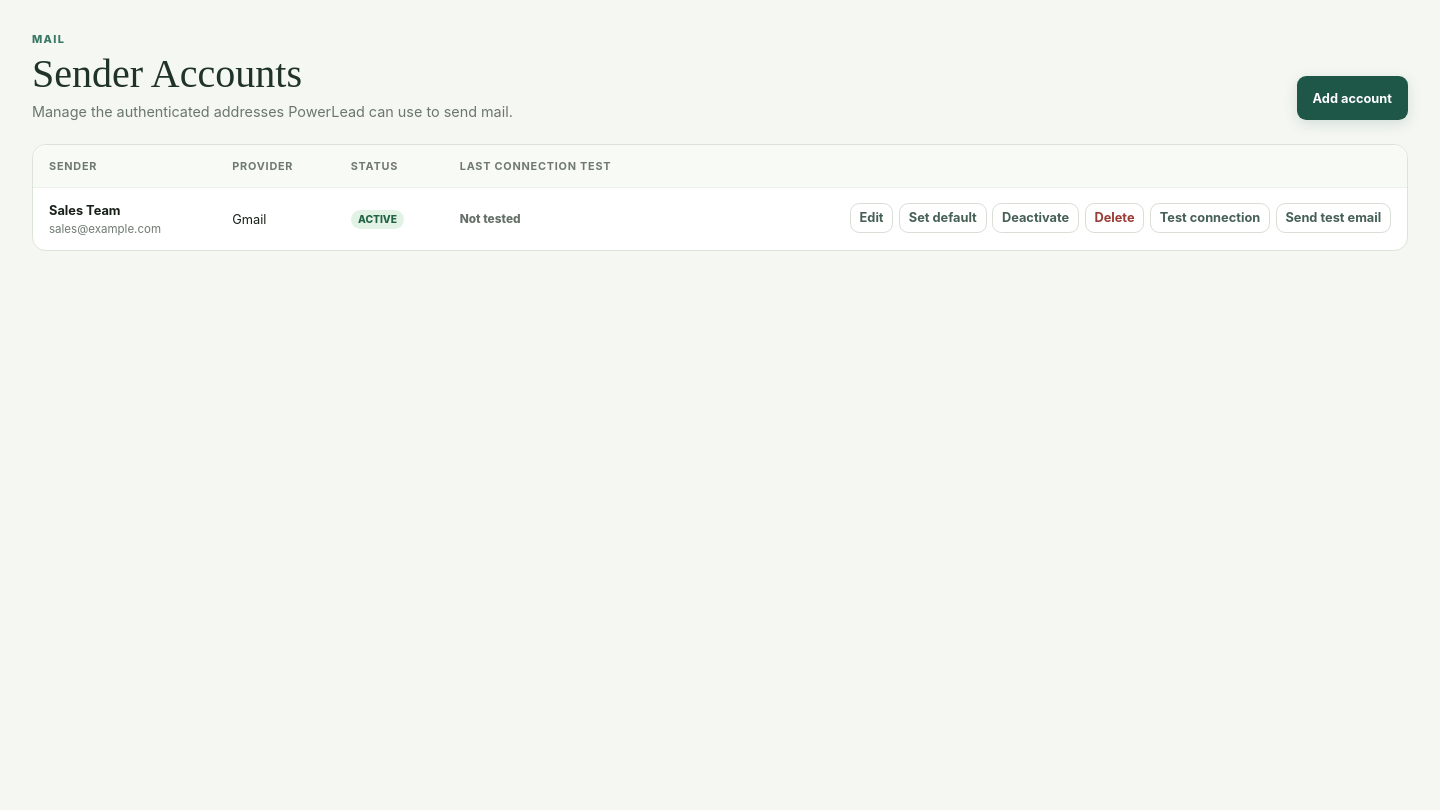
Test: SenderAccountsComponent › requires recipient validation and explicit confirmation before sending a test email
Step 1. Click the button "Send test email" → (1333, 218), box [1276,203,1391,233]
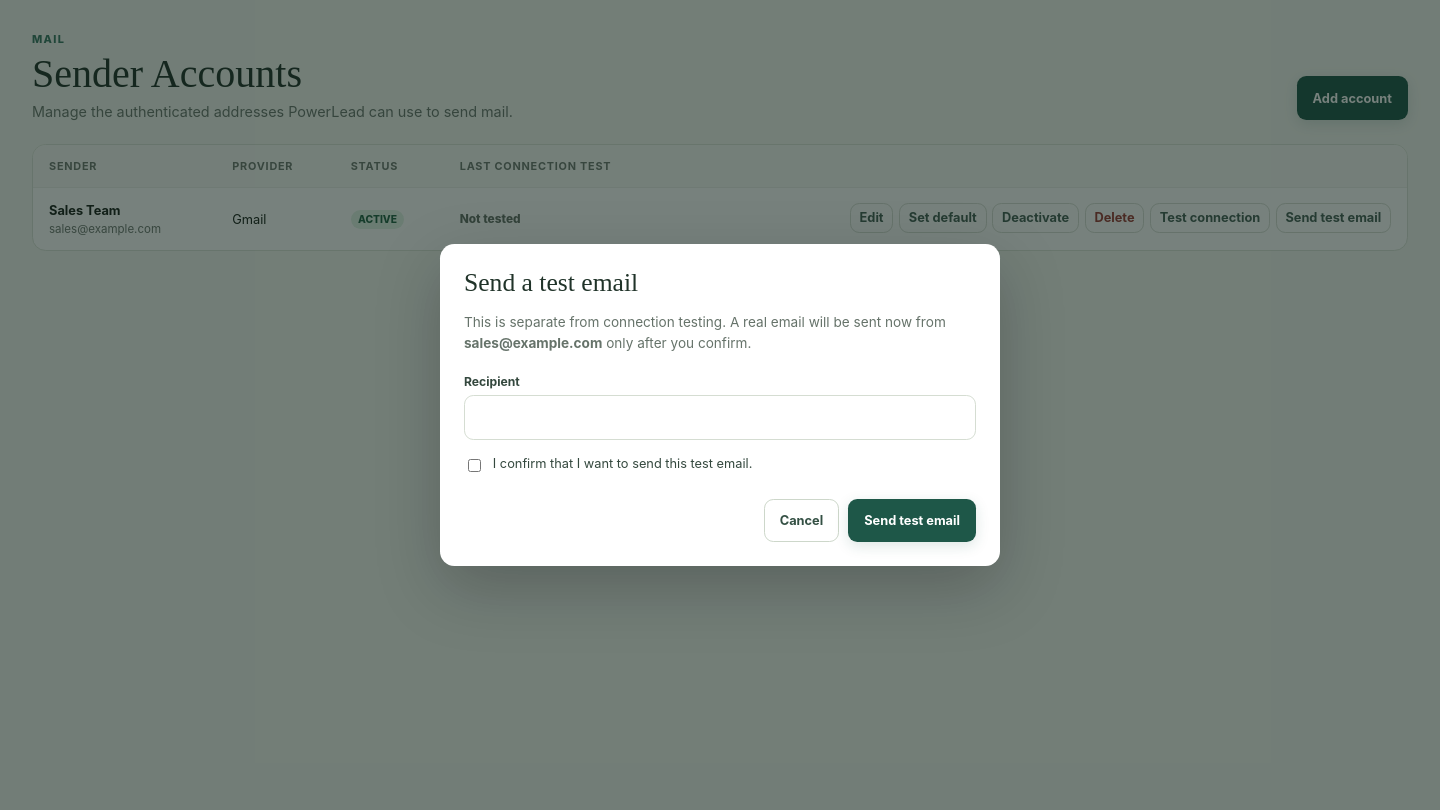
Step 2. Type "recipient@example.com" into the field with id "test-recipient" → (720, 418), box [464,395,976,440]
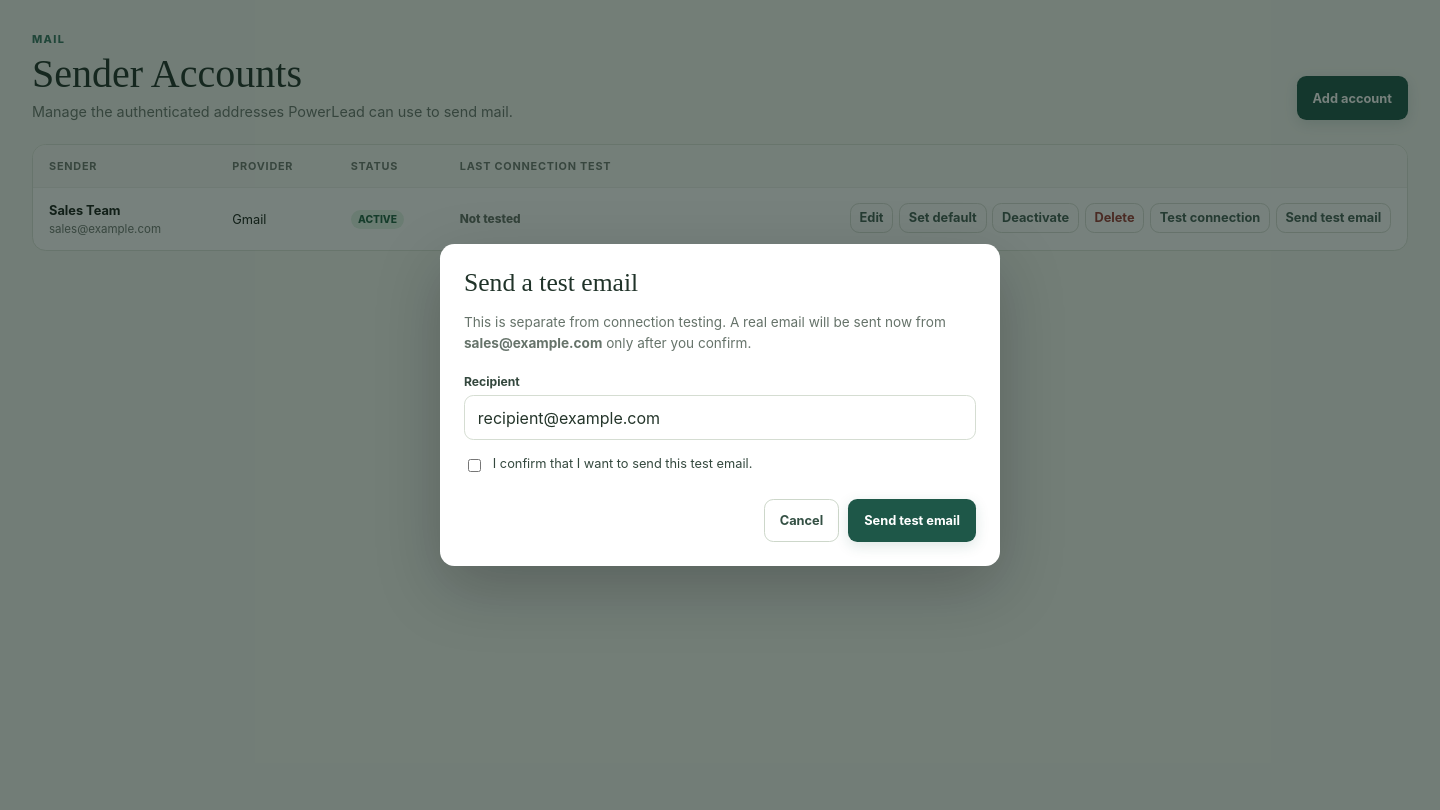
Step 3. Submit the form, box [464,374,976,542]
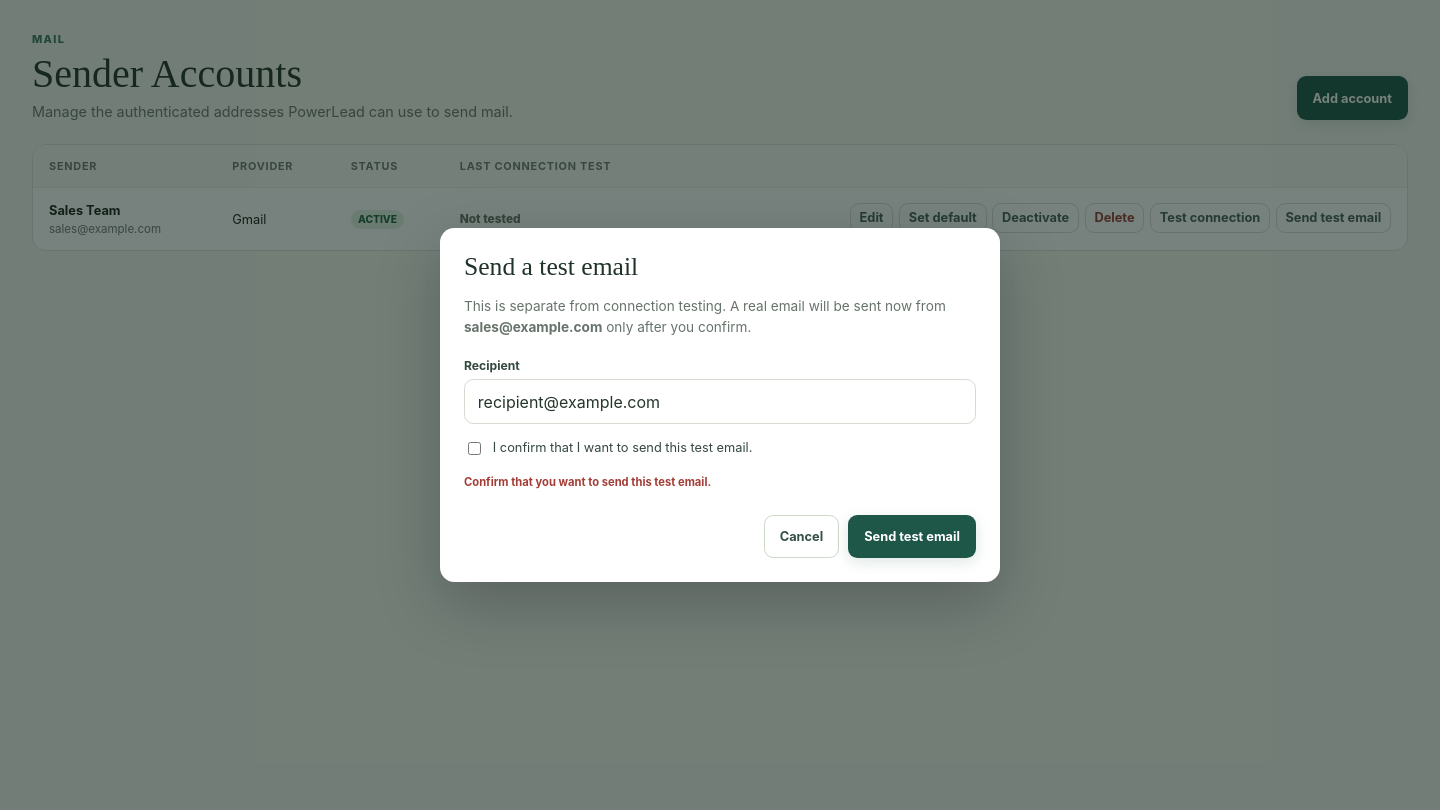
Step 4. Click the checkbox named "confirmed" → (474, 449), box [468,442,481,455]
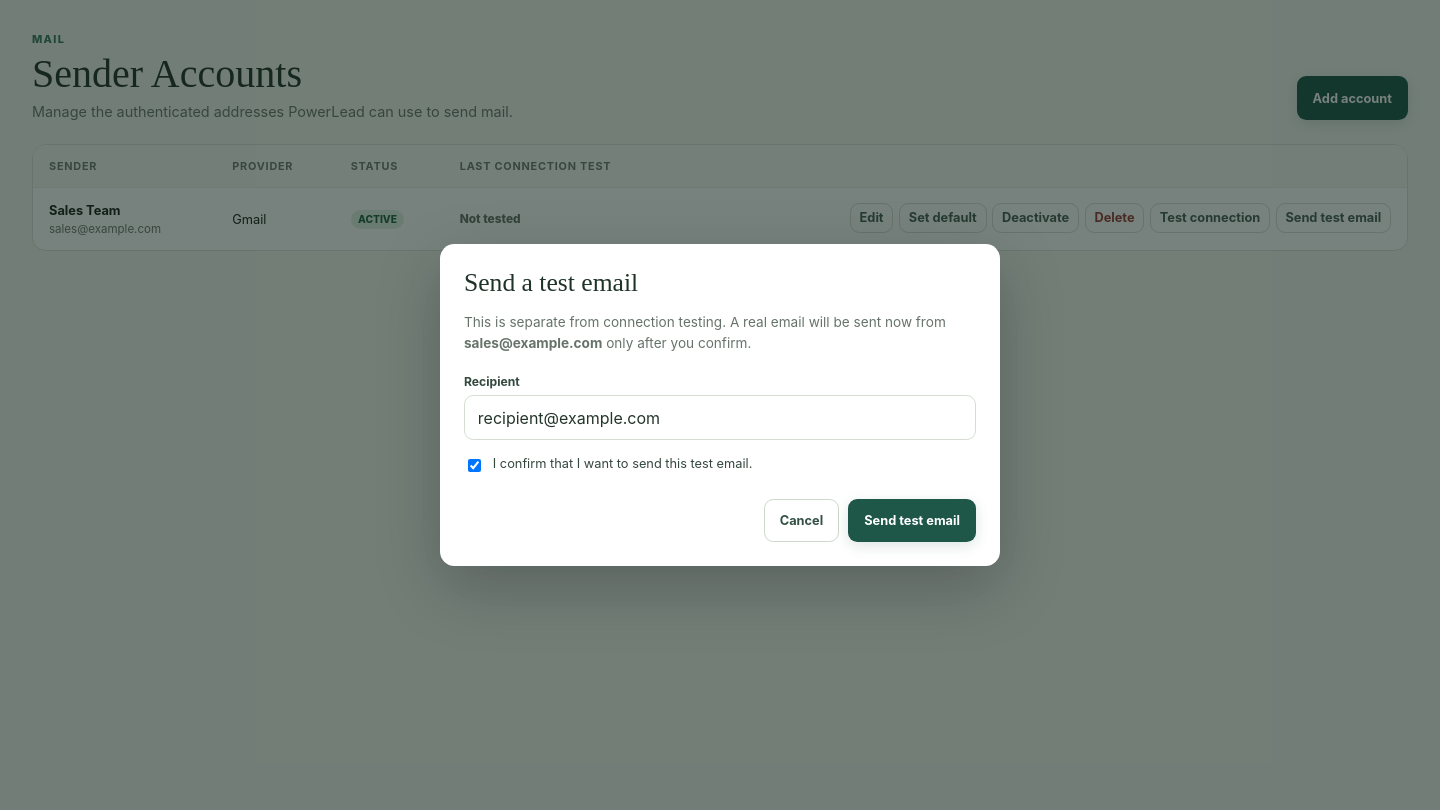
Step 5. Submit the form, box [464,374,976,542]
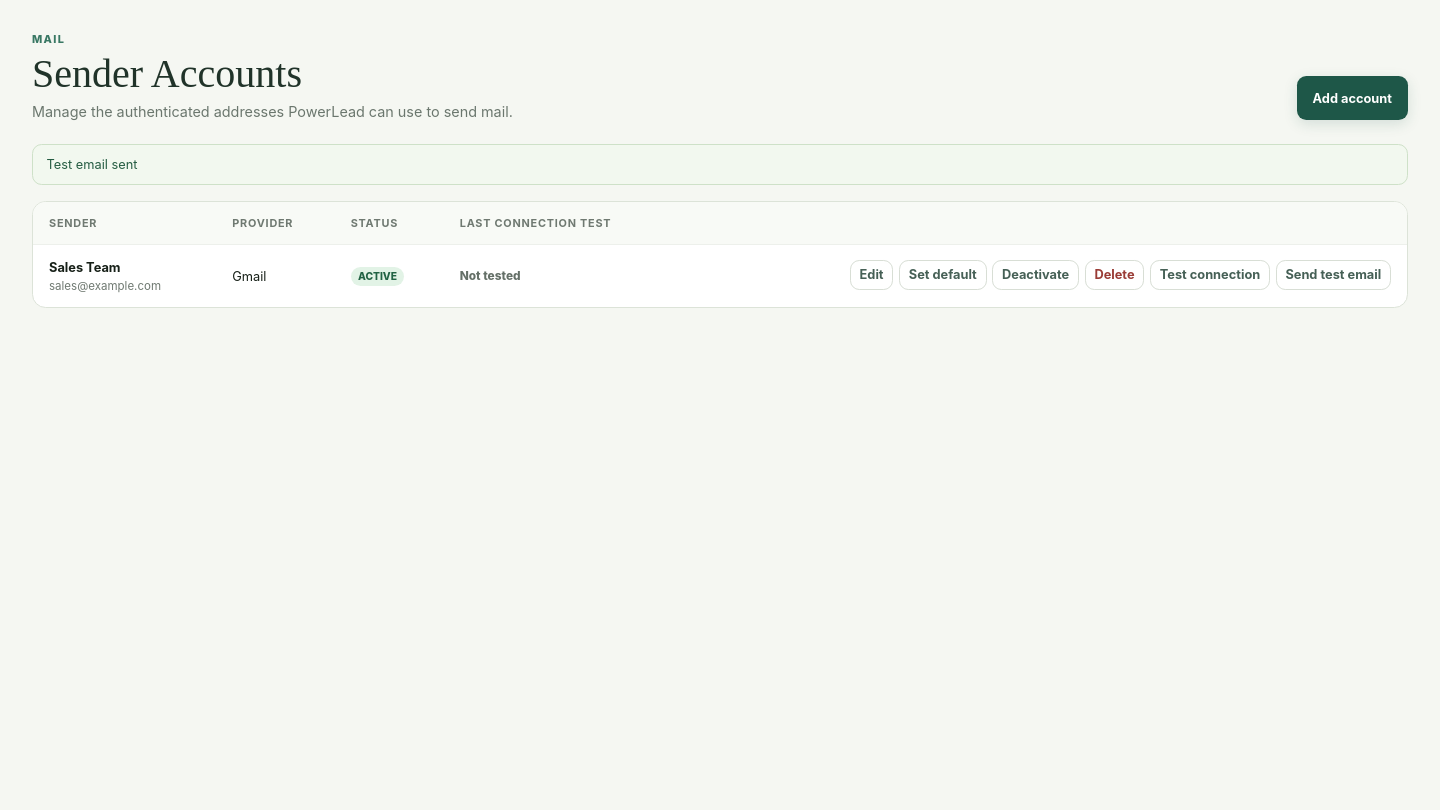
Check: the heading with id "test-email-title" is gone
